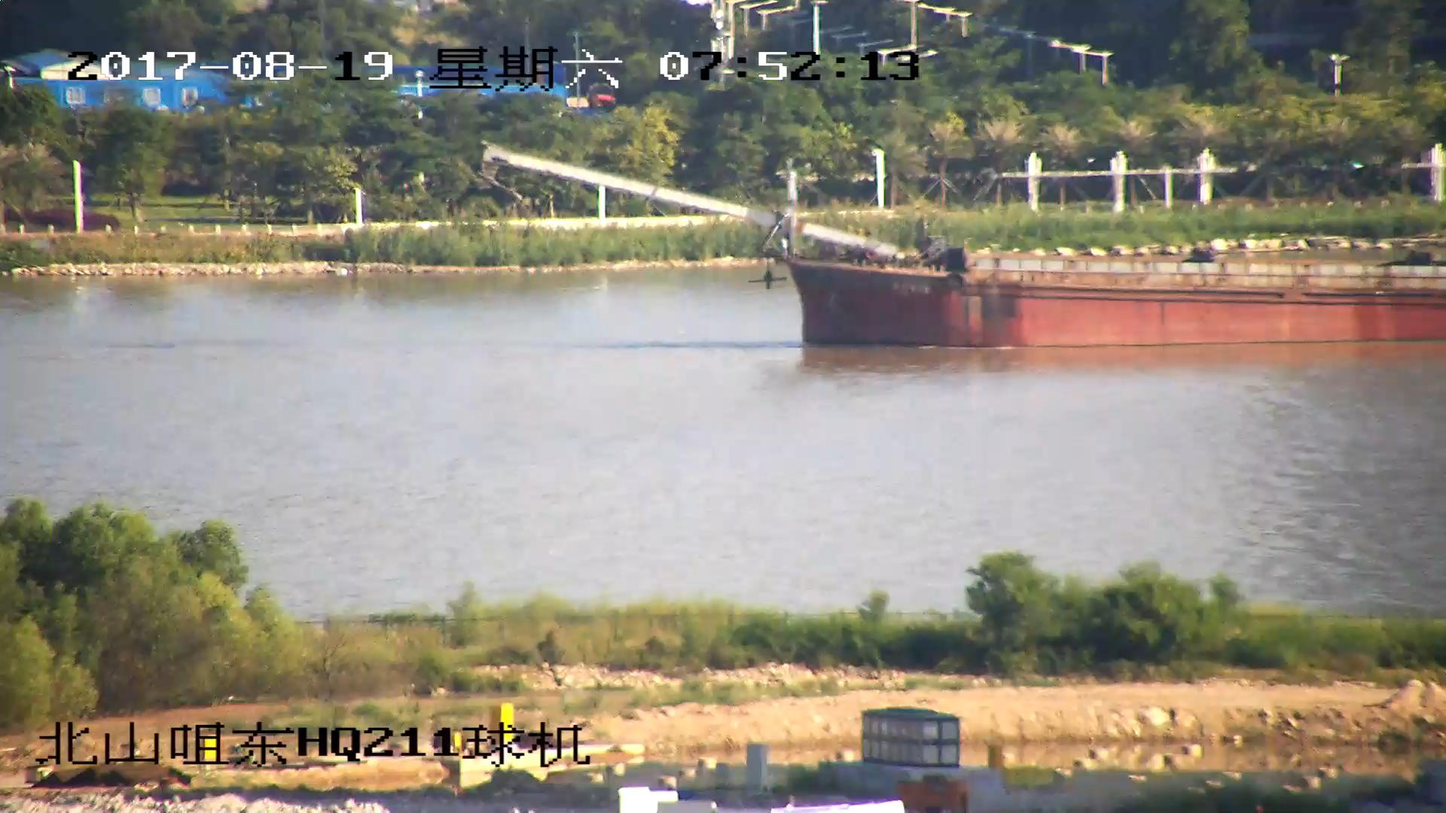bulk cargo carrier: (488, 148, 1445, 346)
